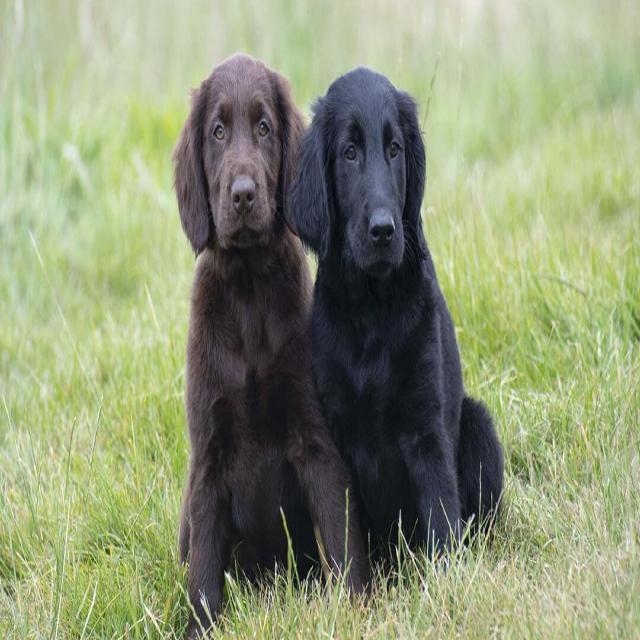Dog: (146, 19, 451, 333)
